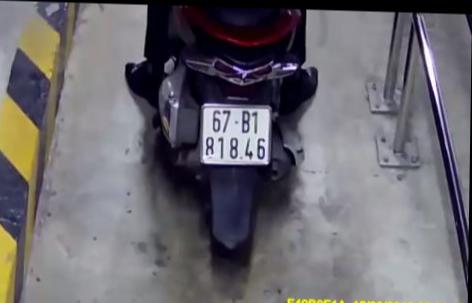LP: (200, 99, 273, 164)
